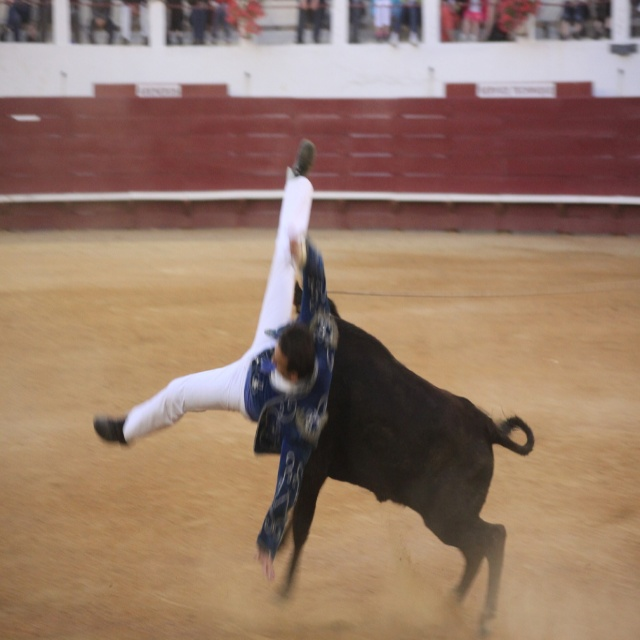Bull: (271, 280, 535, 639)
